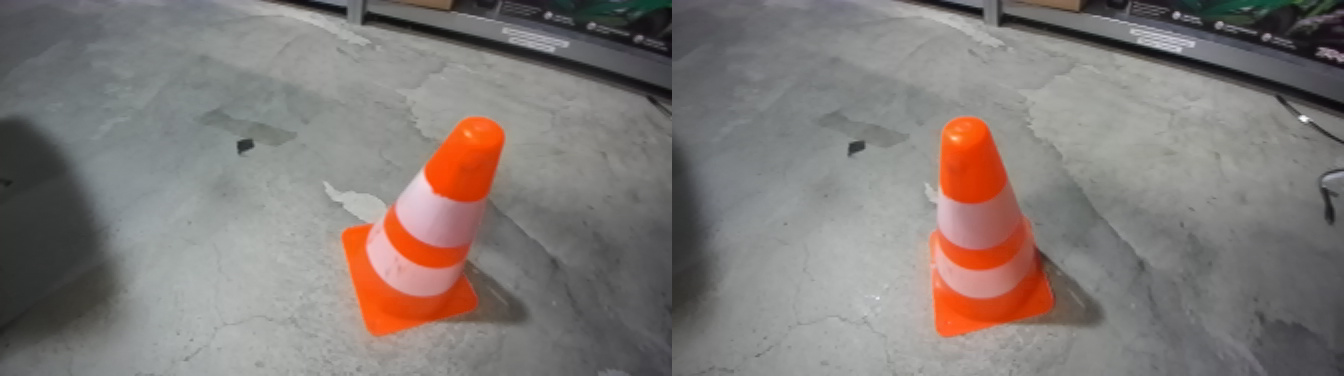cone: (346, 118, 513, 356), (922, 126, 1064, 343)
